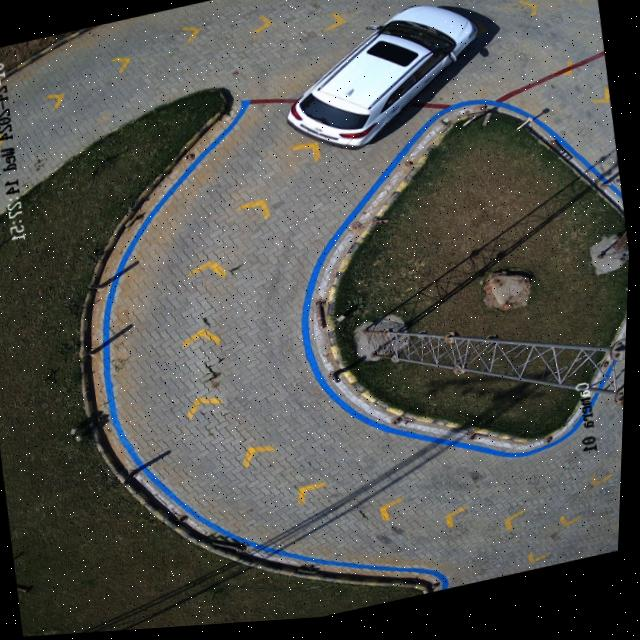car: (289, 10, 483, 150)
